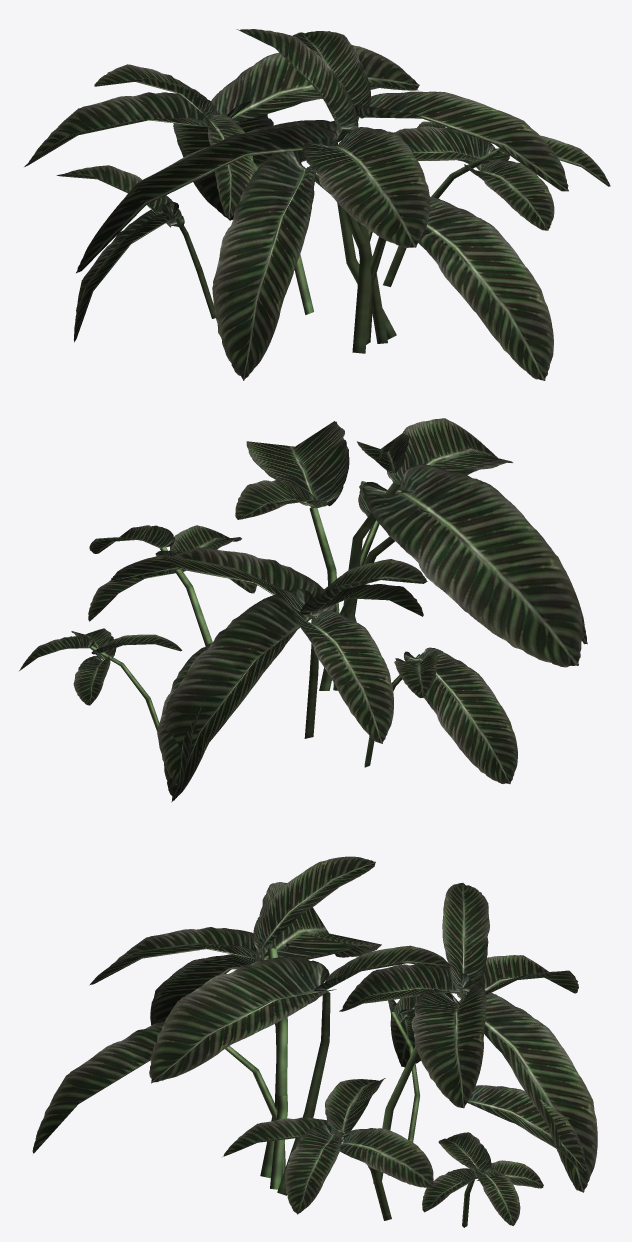
The model's file is Model_Plant_16.fbx.
The picture shows the model from 3 angles, top to bottom: view 1: azimuth 30°, elevation 25°; view 2: azimuth 150°, elevation 25°; view 3: azimuth 270°, elevation 25°; orthographic projection. The views are drawn at different scales.
Visible parts, largest first — view 1: Plant_01; view 2: Plant_01; view 3: Plant_01.
Part boxes in pixels (x1=…): Plant_01: x1=24, y1=29, x2=610, y2=380; Plant_01: x1=19, y1=418, x2=587, y2=802; Plant_01: x1=32, y1=856, x2=597, y2=1227.
Bounding box in the file's own units: 314 × 172 × 314.
